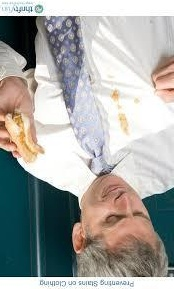mustard: (115, 108, 133, 142), (113, 89, 123, 102), (134, 99, 139, 105)
